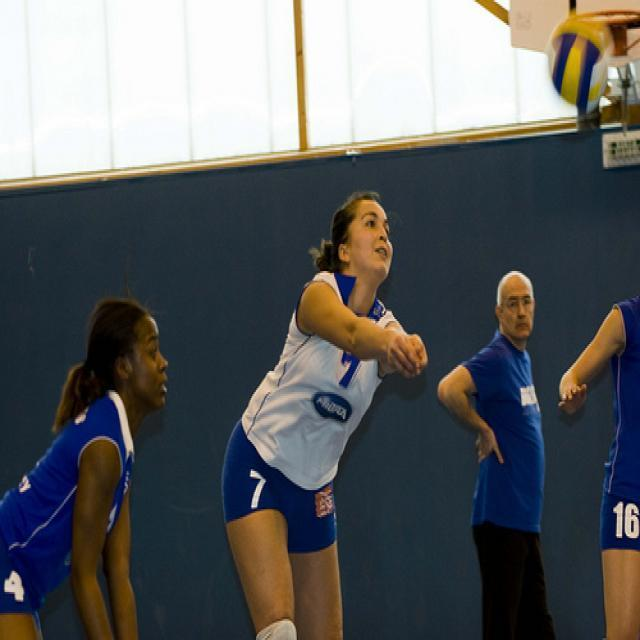volleyball: (546, 20, 608, 104)
